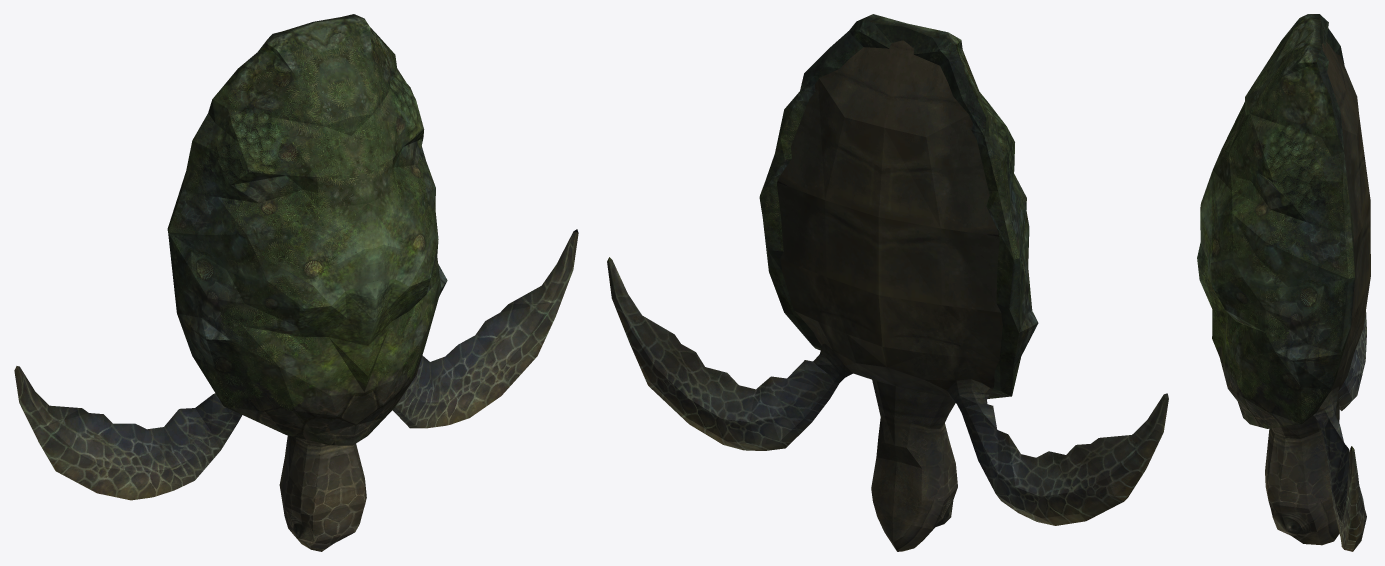
File: yatelandisi_dongxue_04_haigui01.obj
3 renders of one model, left to right at view 1: azimuth 30°, elevation 25°; view 2: azimuth 150°, elevation 25°; view 3: azimuth 270°, elevation 25°, orthographic. The views are drawn at different scales.
Visible parts, largest first — view 1: yatelandisi_dongxue_04_haigui01; view 2: yatelandisi_dongxue_04_haigui01; view 3: yatelandisi_dongxue_04_haigui01.
Boxes of the visible parts, x1,y1,x2,y2 form: yatelandisi_dongxue_04_haigui01: (14, 14, 578, 551); yatelandisi_dongxue_04_haigui01: (607, 14, 1168, 551); yatelandisi_dongxue_04_haigui01: (1197, 14, 1370, 551).
Bounding box in the file's own units: 1099 × 981 × 300.
3 materials, 3 textured.
